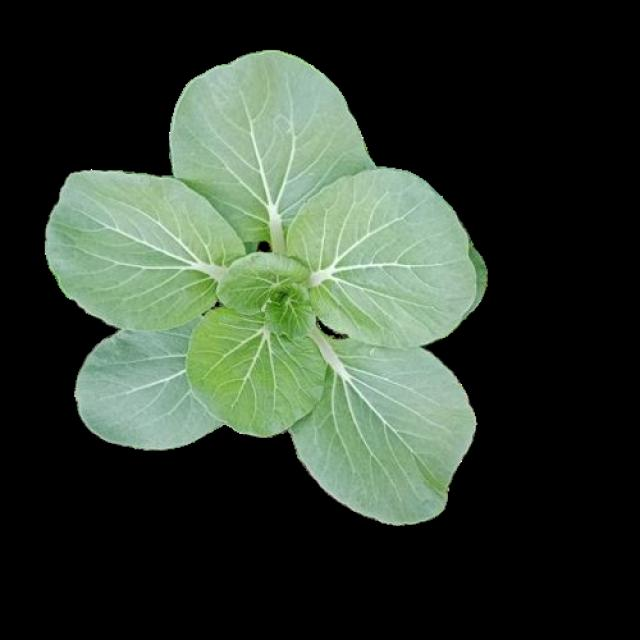healthy: (44, 49, 482, 518)
not-mature: (46, 51, 485, 521)
